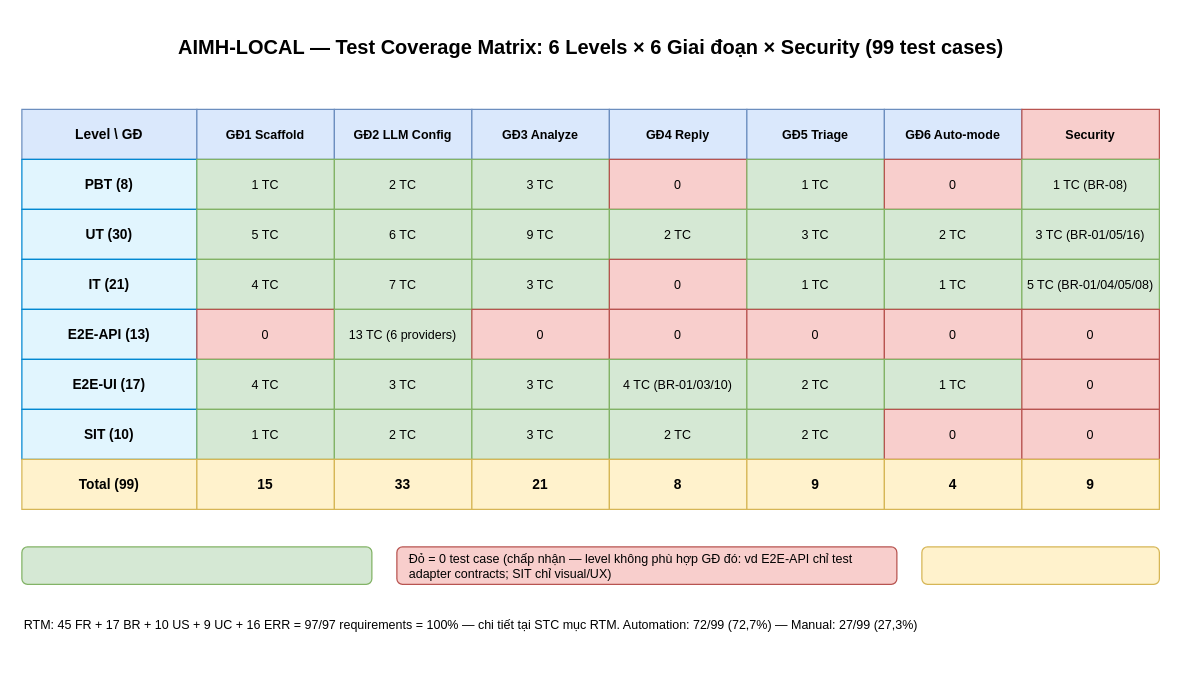
The diagram is 1181 pixels wide and 680 high, and some of its shapes have lost their labels. The centre of each missing label's shape, as x and y in pixels:
Vàng = tổng cột/hàng: the point at 1040,565
Xanh = có test case (mức độ × GĐ được cover): the point at 196,565
